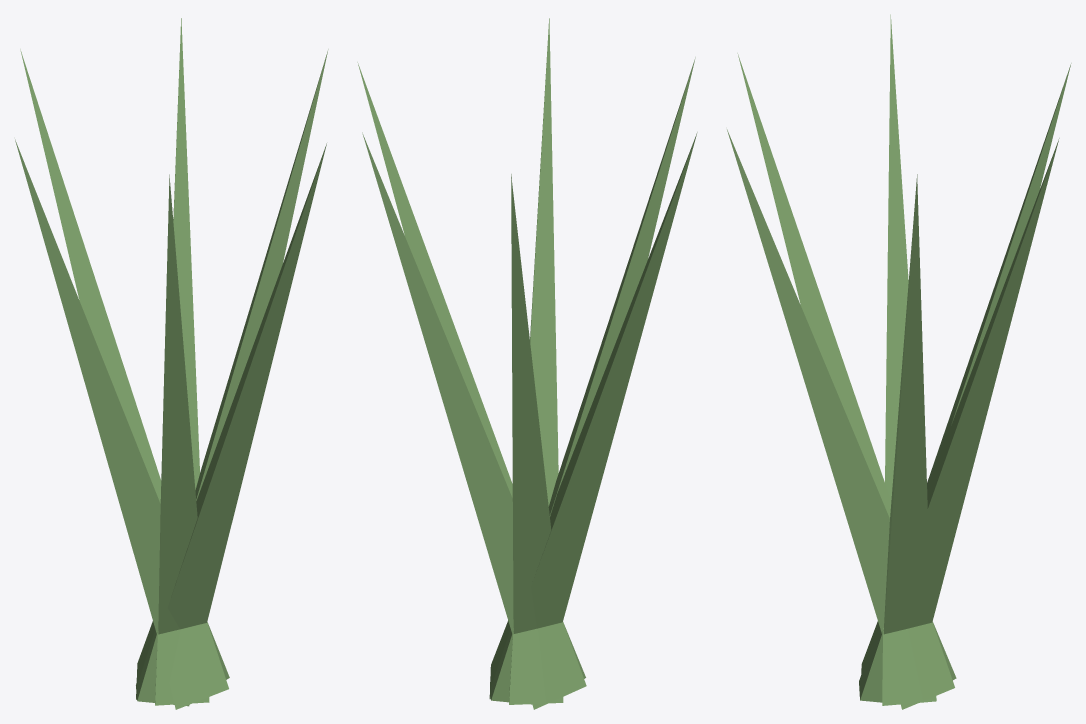
The model's file is Grass_Tuft.fbx.
The picture shows the model from 3 angles, left to right: view 1: azimuth 30°, elevation 25°; view 2: azimuth 150°, elevation 25°; view 3: azimuth 270°, elevation 25°; orthographic projection.
Parts seen in each view (by area): view 1: Grass_Tuft; view 2: Grass_Tuft; view 3: Grass_Tuft.
Boxes of the visible parts, x1,y1,x2,y2 form: Grass_Tuft: (15, 18, 328, 709); Grass_Tuft: (357, 18, 697, 709); Grass_Tuft: (727, 14, 1071, 709).
Bounding box in the file's own units: 0.2292 × 0.4056 × 0.2096.
